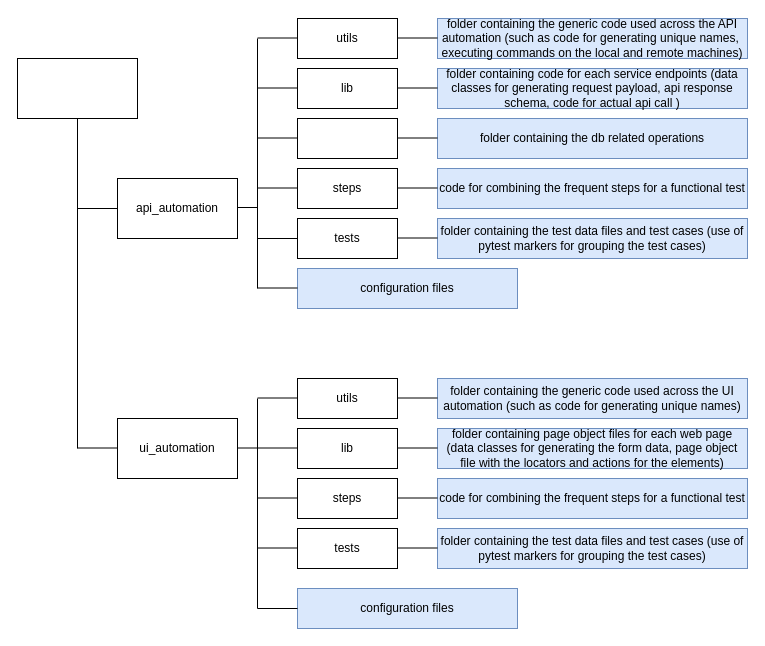
Some shapes in this 765 by 646 pixel diagram are drawn without their labels. Here are the shapes that lost their labels. From the top down, the centre of each, then its label:
pixel 77 88: automation
pixel 347 138: db
